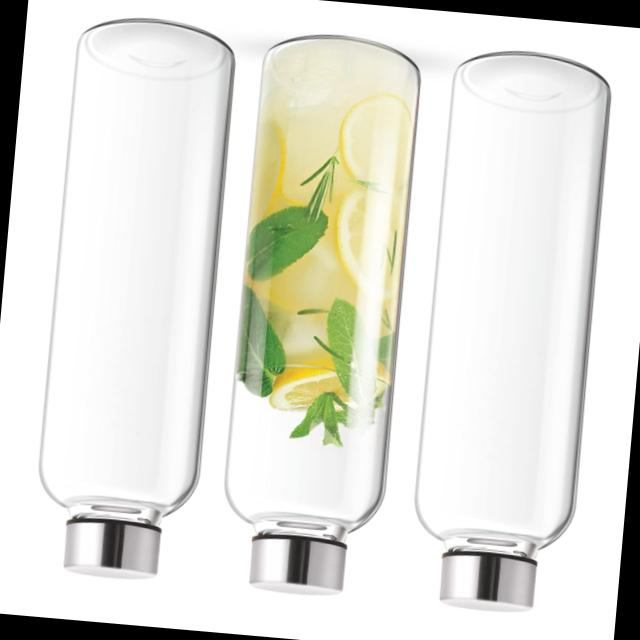glass: (15, 5, 244, 614), (203, 20, 435, 614), (399, 40, 615, 636)
